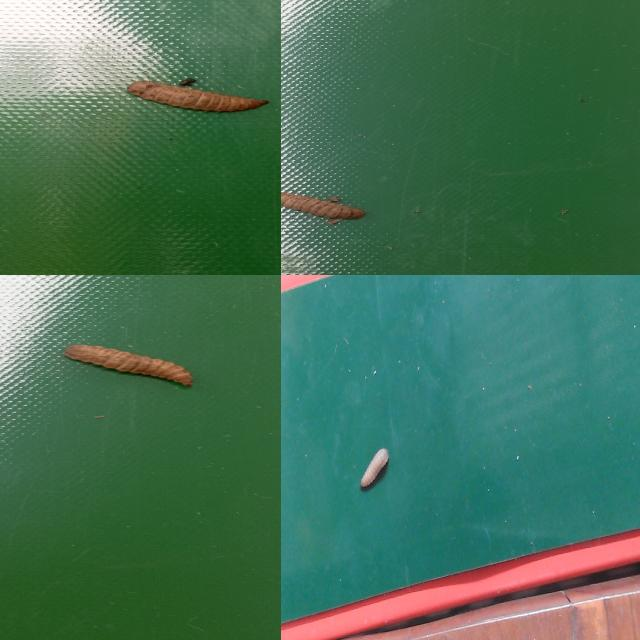Maggot: (65, 344, 193, 389), (127, 81, 267, 116), (281, 190, 367, 224), (359, 448, 389, 493)
